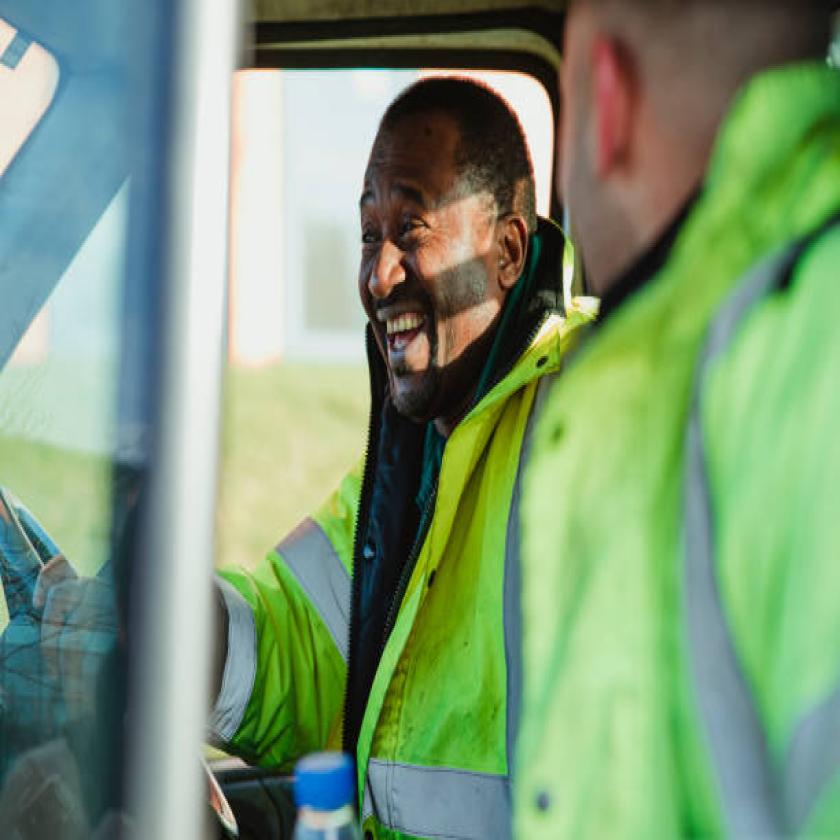Sin_casco: (551, 0, 838, 286), (338, 53, 545, 394)
